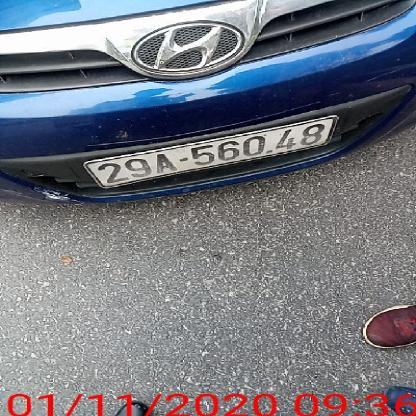biensoxe: (77, 114, 334, 188)
